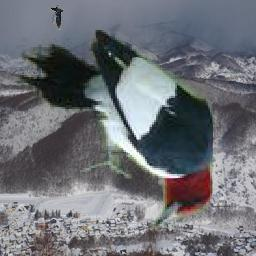Crow: (50, 4, 64, 30)
Woodpecker: (15, 31, 214, 230)
